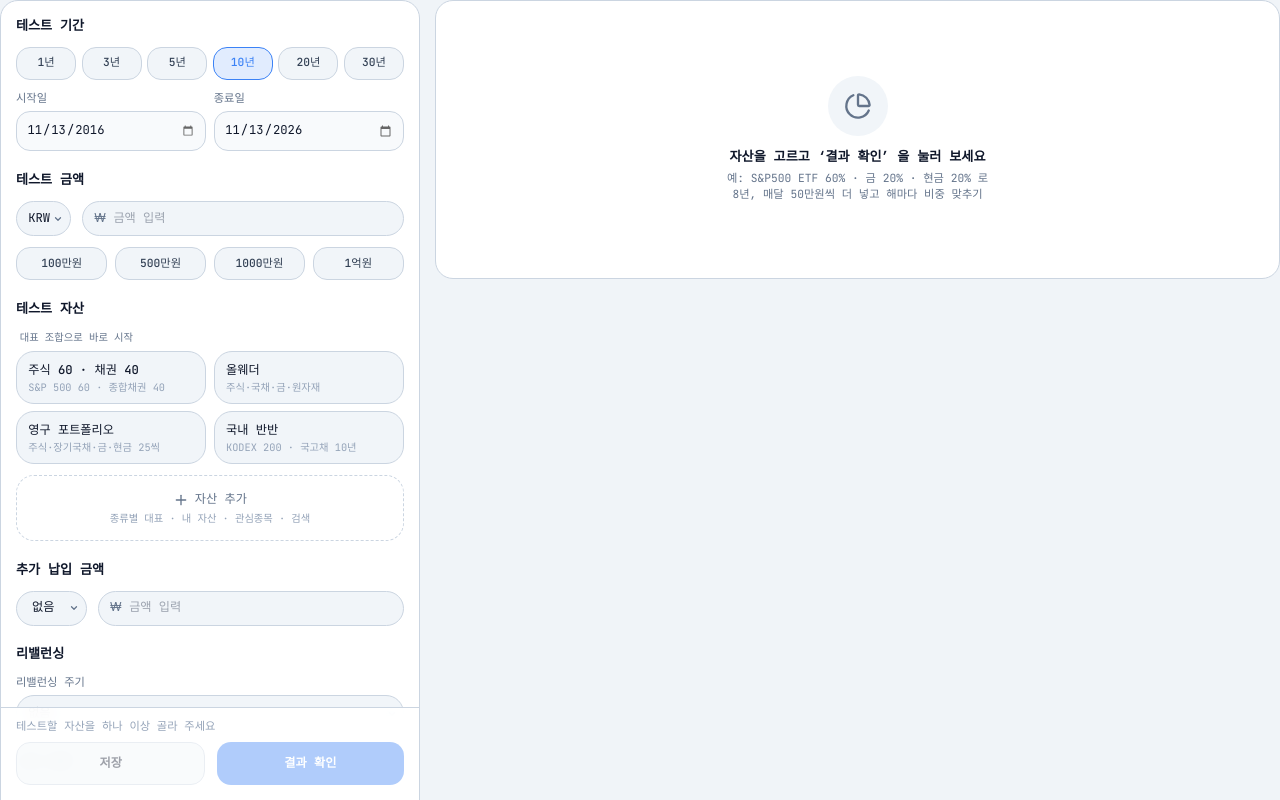
Scenario: 사진의 항목이 다 있다 › 고른 칩이 고른 티가 난다
Click the button labelled "3년": [112, 63] box [82, 47, 142, 80]
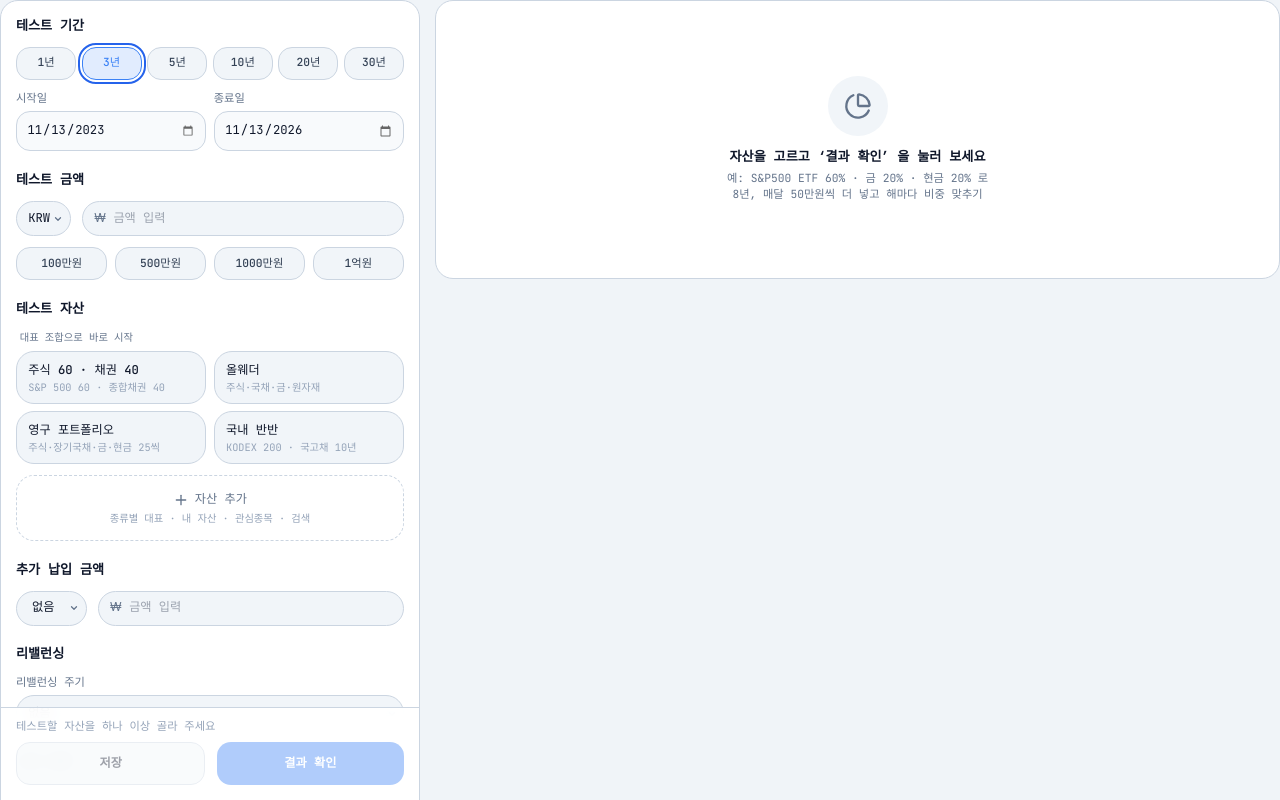
Expected: the button labelled "3년" is pressed, [82, 47, 142, 80]
Expected: the button labelled "3년" has class "border-accent-blue", [82, 47, 142, 80]
